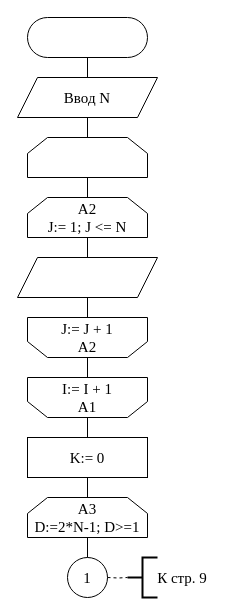
This 235x616 diagram has some shape labels left out. Here are the shapes that lost their labels. From the top down, the centre of each, then its label:
the point at 87,37: Вход
the point at 87,157: А1 I:= 1; I <= N
the point at 87,277: Ввод Arr1[I][J]
